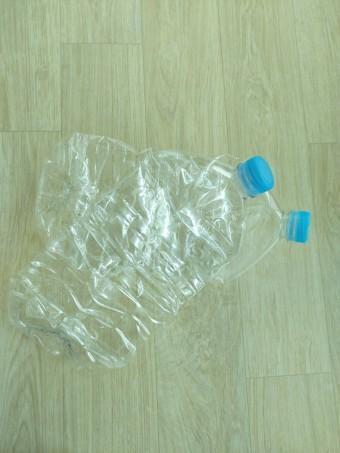bottle: (6, 153, 272, 368)
